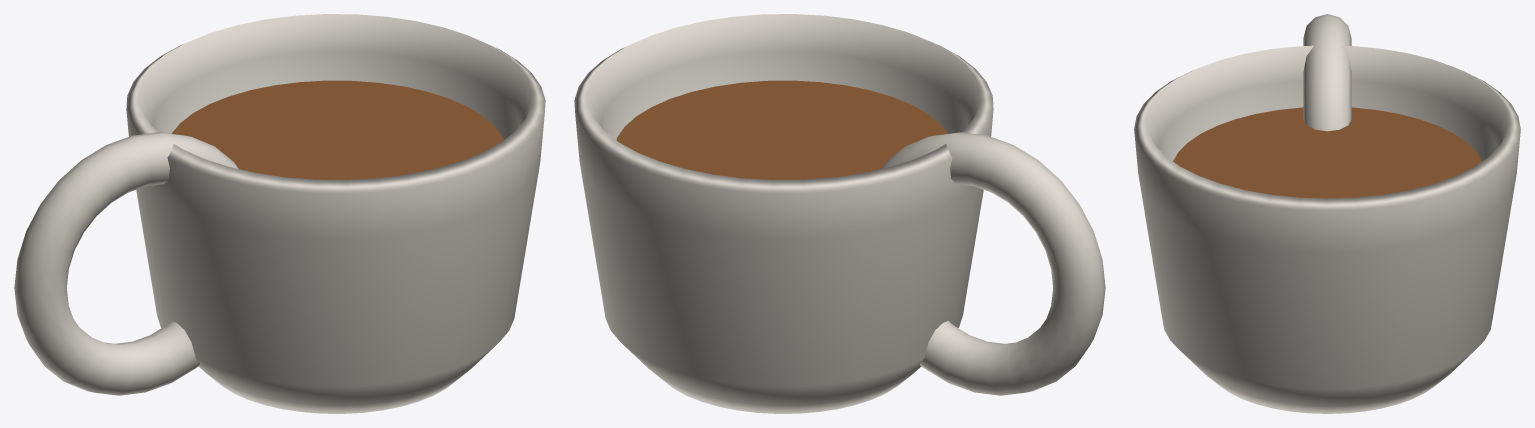
File: teacup.glb
3 views of the same model, side by side, from view 1: azimuth 30°, elevation 25°; view 2: azimuth 150°, elevation 25°; view 3: azimuth 270°, elevation 25° (orthographic). The views are drawn at different scales.
Visible parts, largest first — view 1: prop-teacup; view 2: prop-teacup; view 3: prop-teacup.
Part boxes in pixels (left/top/right/bottom): prop-teacup: left=14, top=14, right=545, bottom=413; prop-teacup: left=574, top=14, right=1105, bottom=413; prop-teacup: left=1134, top=14, right=1520, bottom=413.
Bounding box in the file's own units: 0.132 × 0.068 × 0.096.
